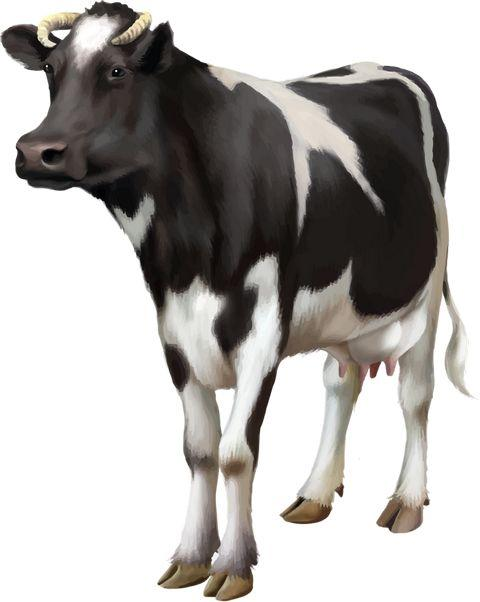cow: (13, 5, 463, 582)
